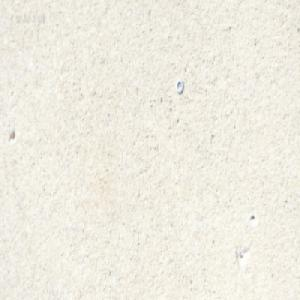Washer: (175, 78, 183, 93)
